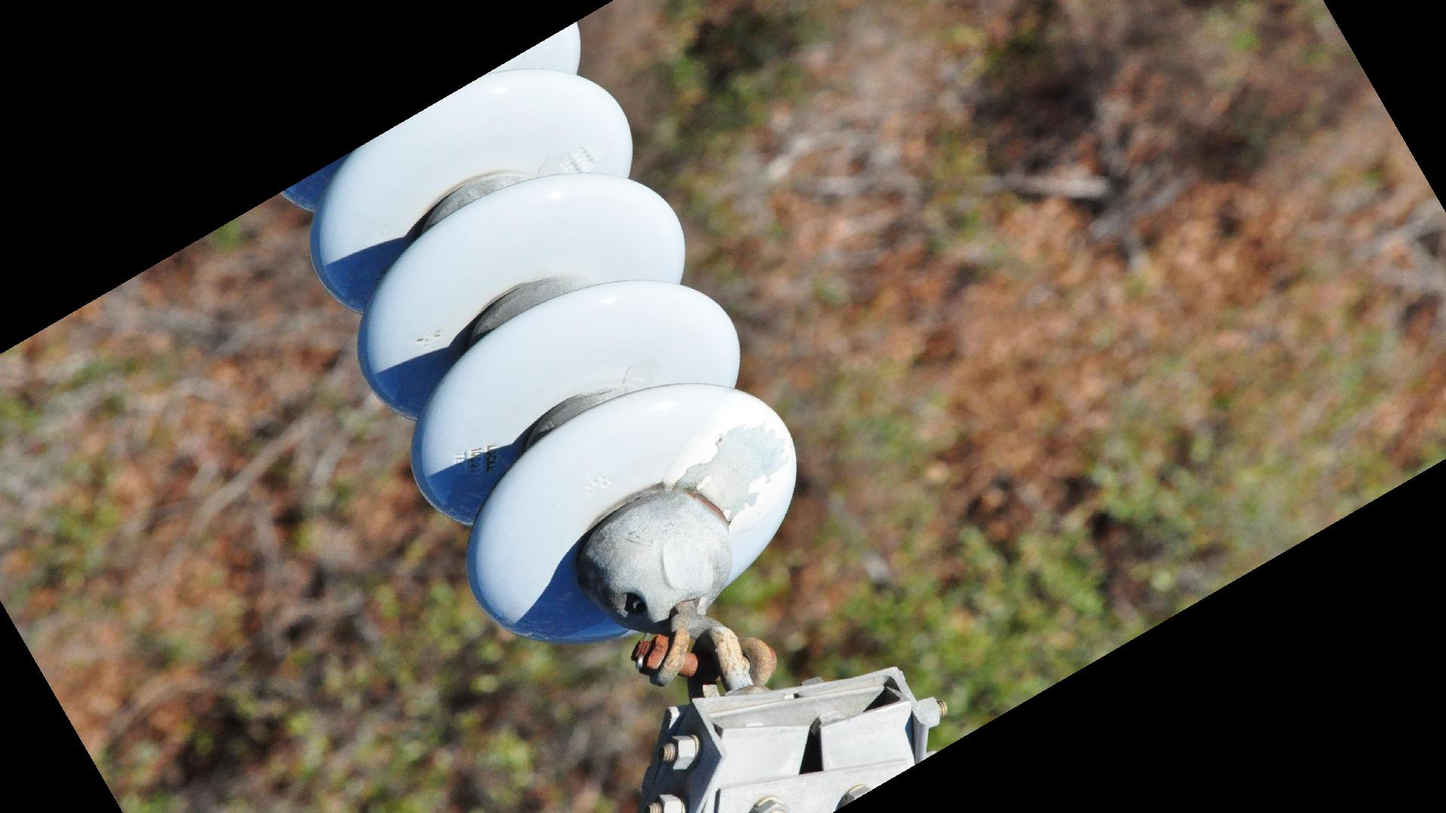insulator: (268, 1, 809, 652)
insulator_flashover: (671, 417, 794, 520)
